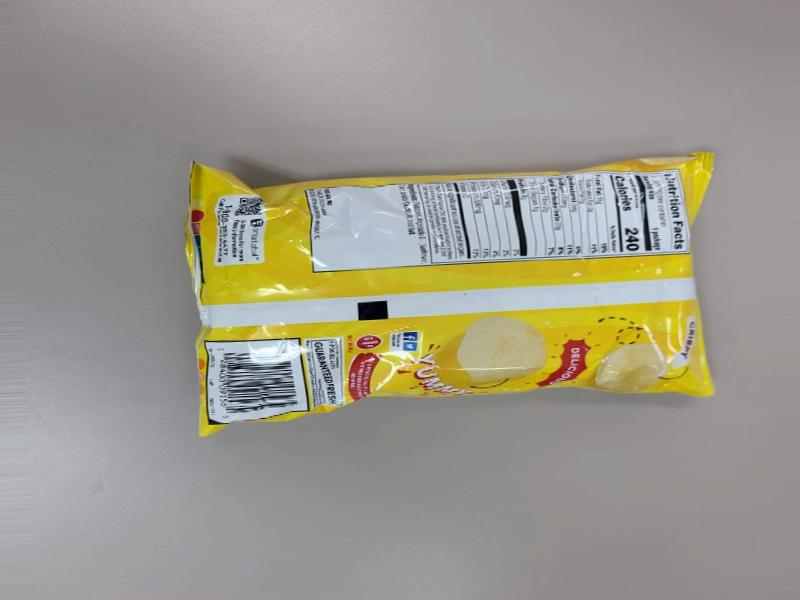lays: (166, 160, 713, 437)
